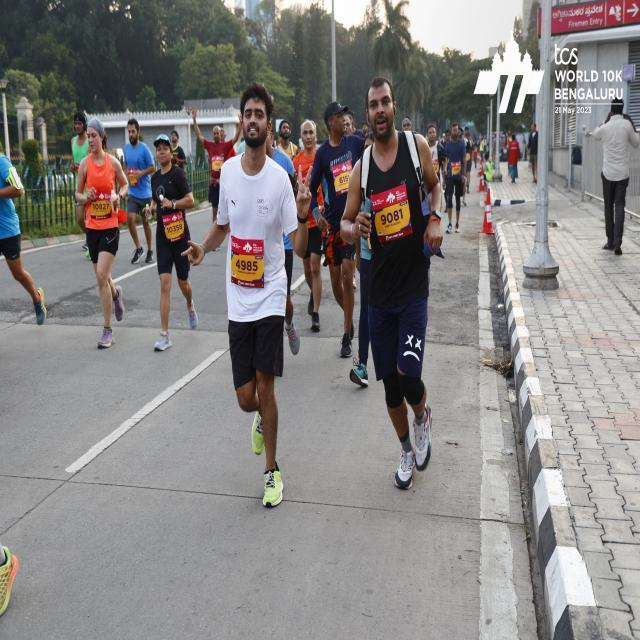dorsal: (372, 188, 412, 241), (230, 233, 264, 290), (161, 210, 186, 243), (89, 188, 112, 217)
